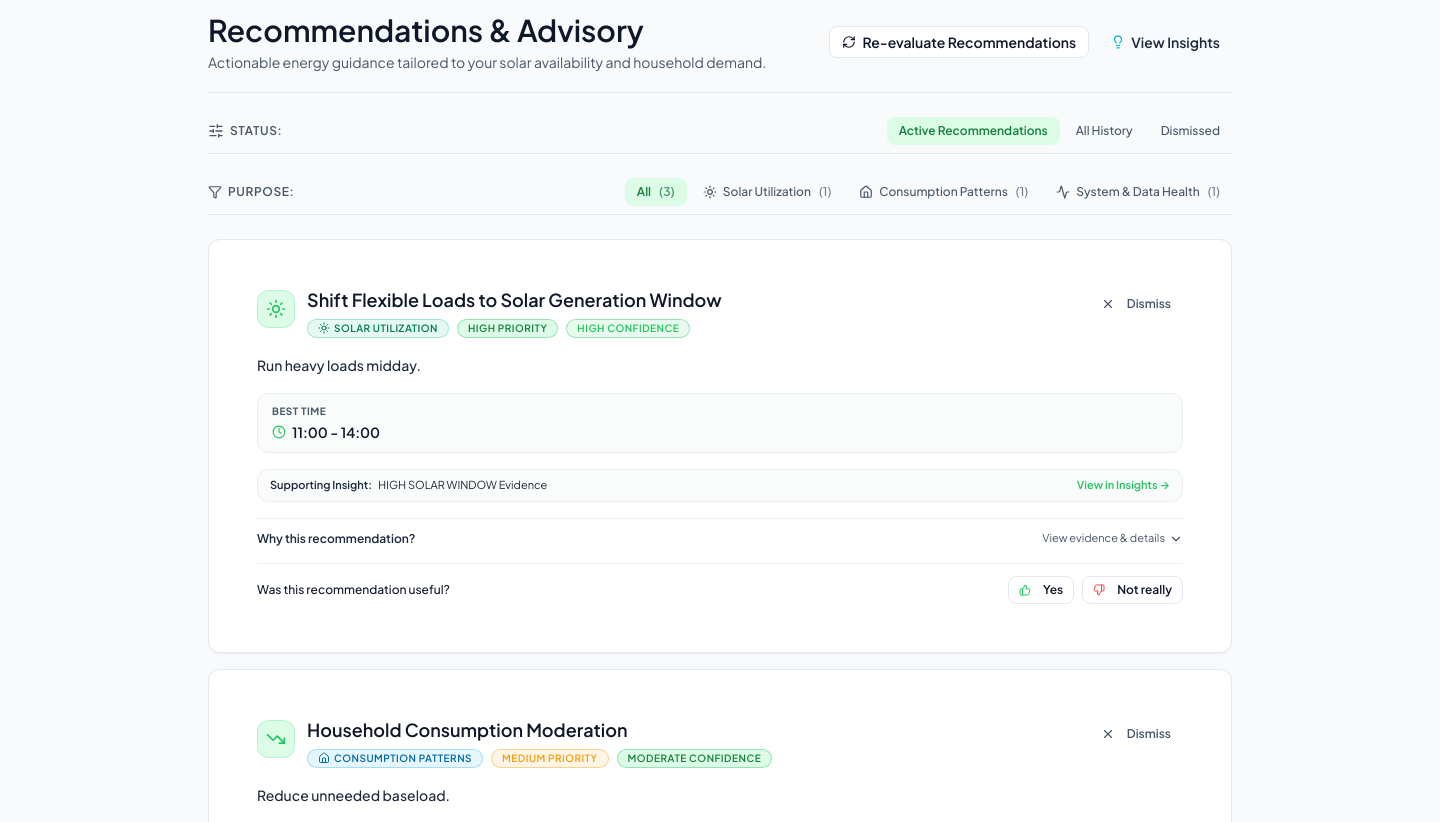
Test: Recommendation Categorization & Purpose Segregation › RecommendationsPage category filter UX › shows honest empty state when a category has 0 matching recommendations and allows reset
The width and height of the screenshot is (1440, 822).
Check: the heading "Shift Flexible Loads to Solar Generation Window" is shown, box [307,288,722,313]
# Filter by Solar Utilization
Click the button "Solar Utilization (1)".
click(767, 192)  # box [691,178,843,206]
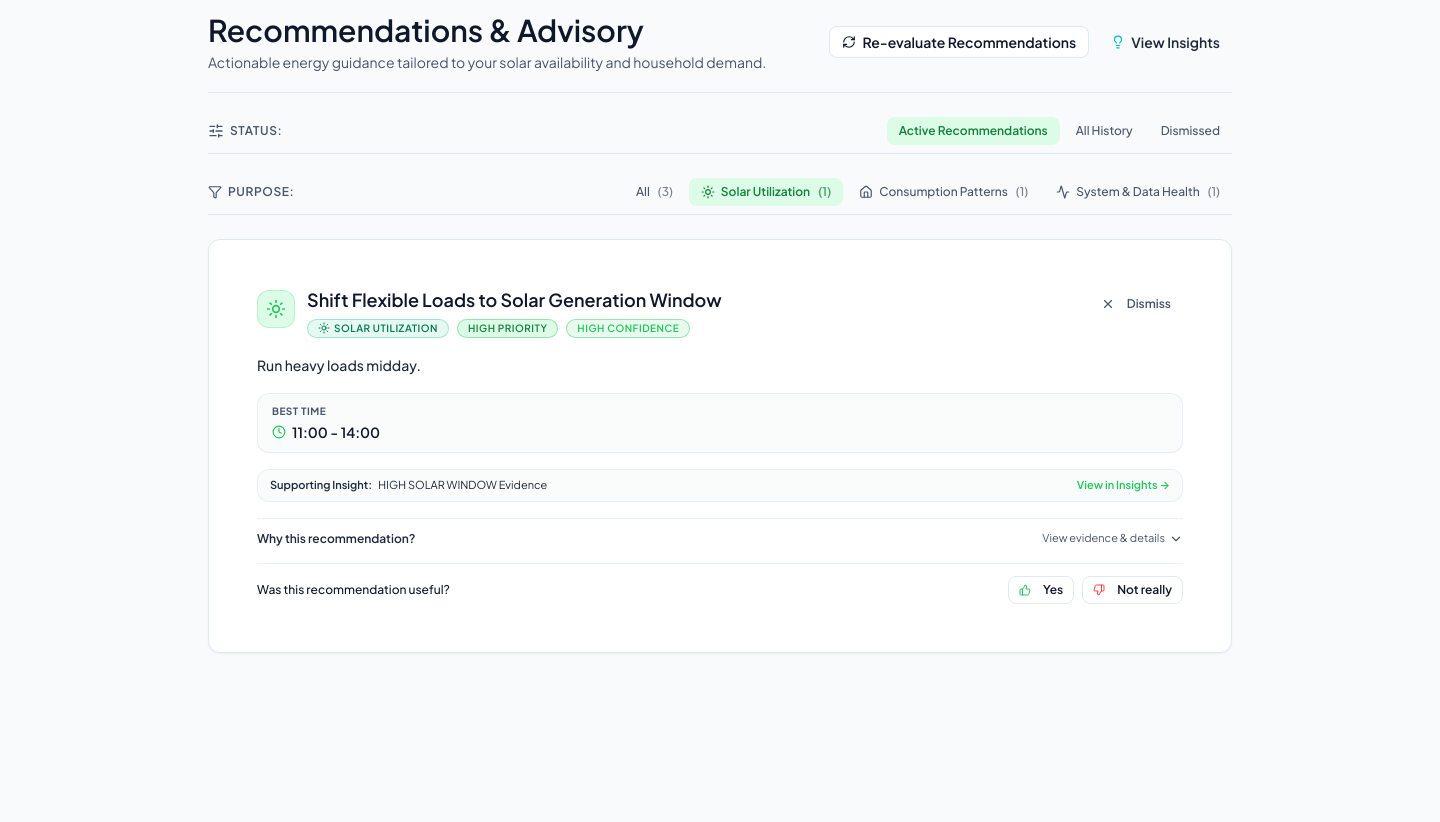
Check: the heading "Shift Flexible Loads to Solar Generation Window" is shown, box [307,288,722,313]
Check: the heading "Household Consumption Moderation" is gone
# Dismiss the single recommendation in this category
Click the button named "Dismiss recommendation: Shift Flexible Loads to Solar Generation Window".
click(1136, 304)  # box [1089,288,1183,320]
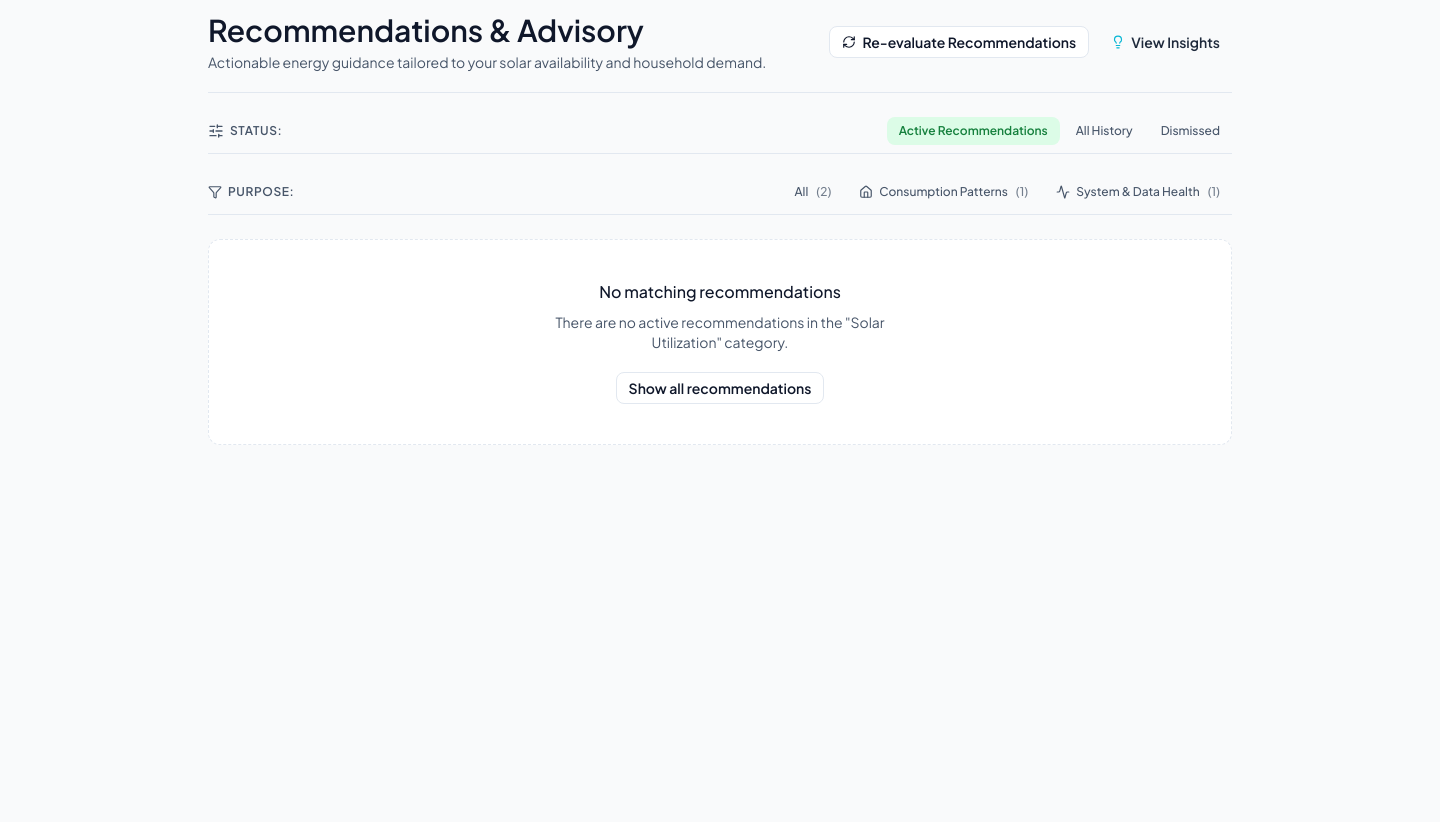
Check: the text "No matching recommendations" is shown, box [599,280,841,304]
Check: the text "There are no active recommendations in the \"Solar Utilization\" category" is shown, box [555,313,885,351]
# Click reset button
Click the button "Show all recommendations".
click(720, 388)  # box [616,372,824,404]
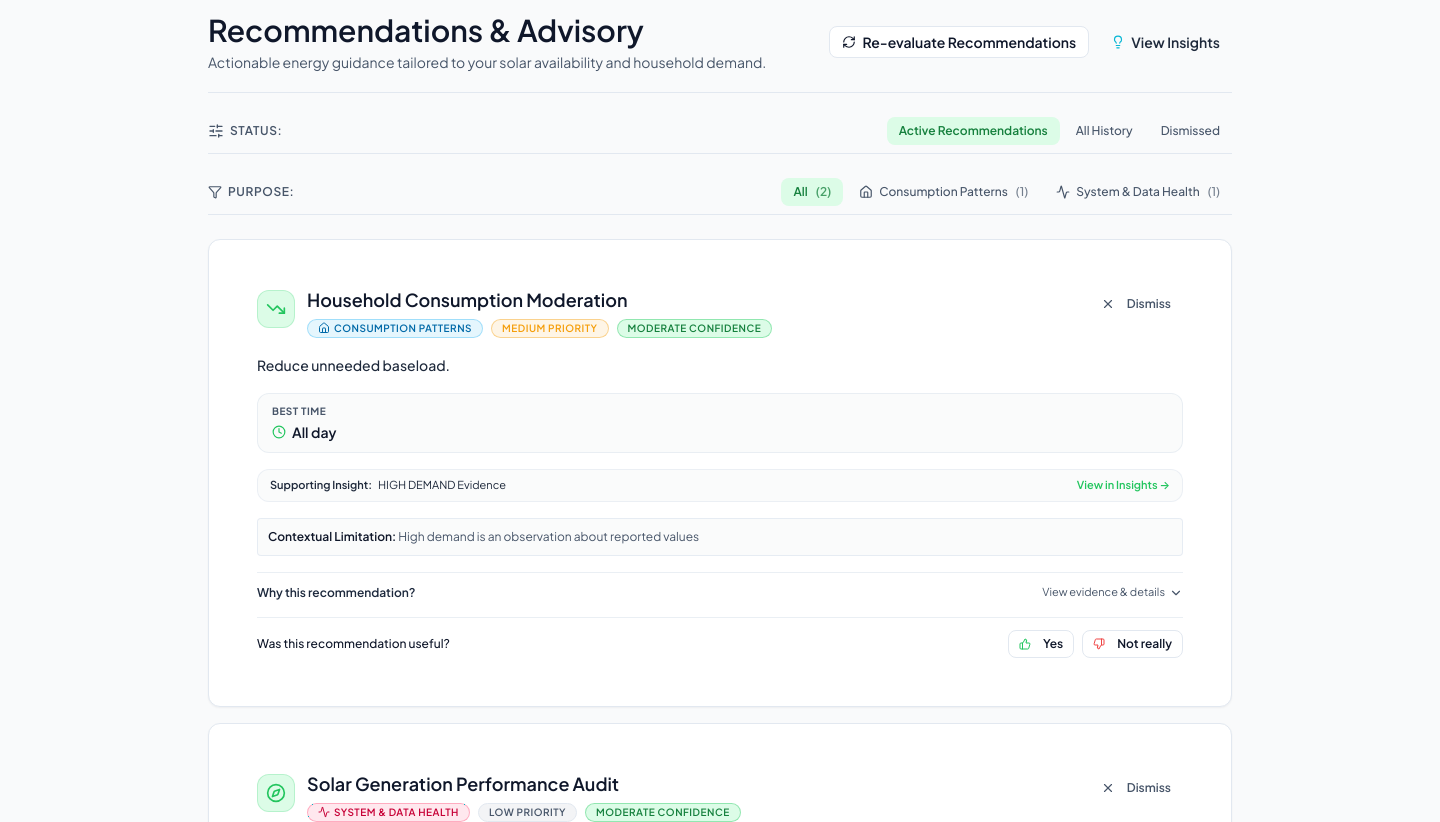
Check: the heading "Household Consumption Moderation" is shown, box [307,288,628,311]
Check: the heading "Solar Generation Performance Audit" is shown, box [307,772,619,795]
